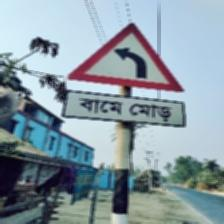Left-Turn: (64, 22, 187, 128)
